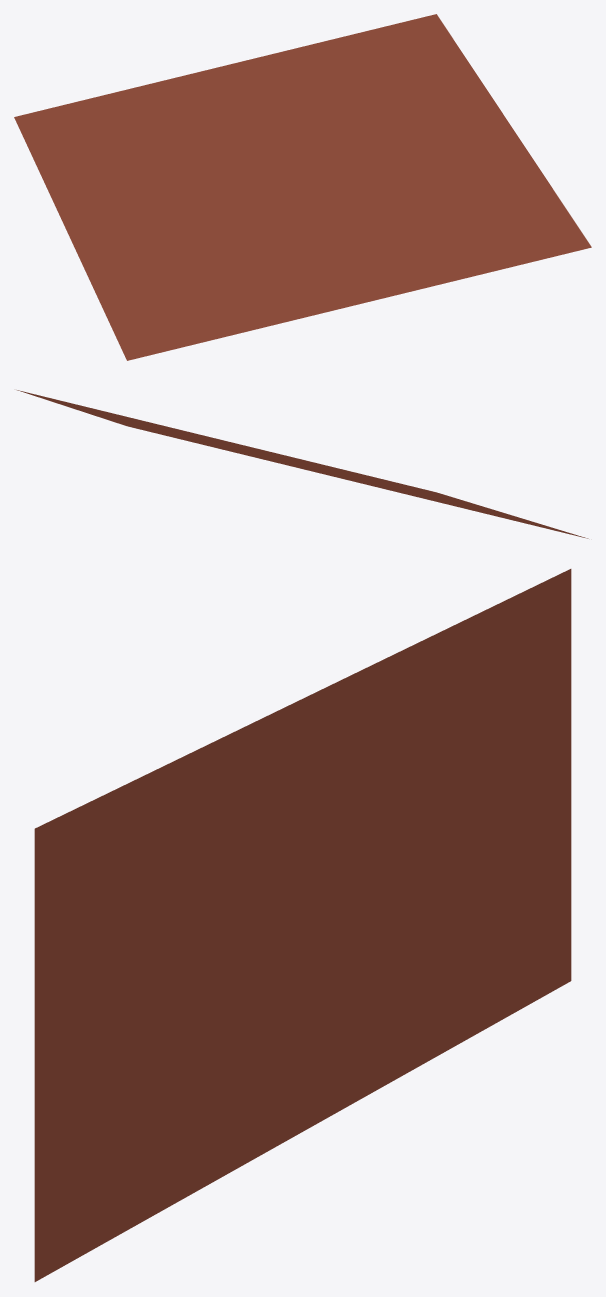
Rendered from 0084-Buildings-shell-pieces-roof-emitRoof-2-triangles-9-90-x-2-86-x-4-95-m-from-prese.glb.
The picture shows the model from 3 angles, top to bottom: view 1: azimuth 30°, elevation 25°; view 2: azimuth 150°, elevation 25°; view 3: azimuth 270°, elevation 25°; orthographic projection. The views are drawn at different scales.
Visible parts, largest first — view 1: emitRoof; view 2: emitRoof; view 3: emitRoof.
Part boxes in pixels (x1=…): emitRoof: x1=14, y1=14, x2=591, y2=360; emitRoof: x1=17, y1=390, x2=588, y2=538; emitRoof: x1=34, y1=569, x2=571, y2=1281.
Bounding box in the file's own units: 9.9 × 2.86 × 4.95.
